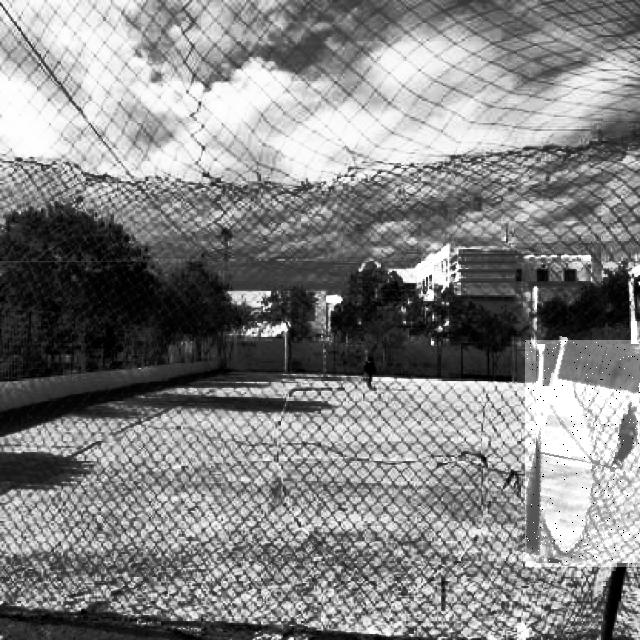anomaly-fence: (525, 340, 640, 567)
